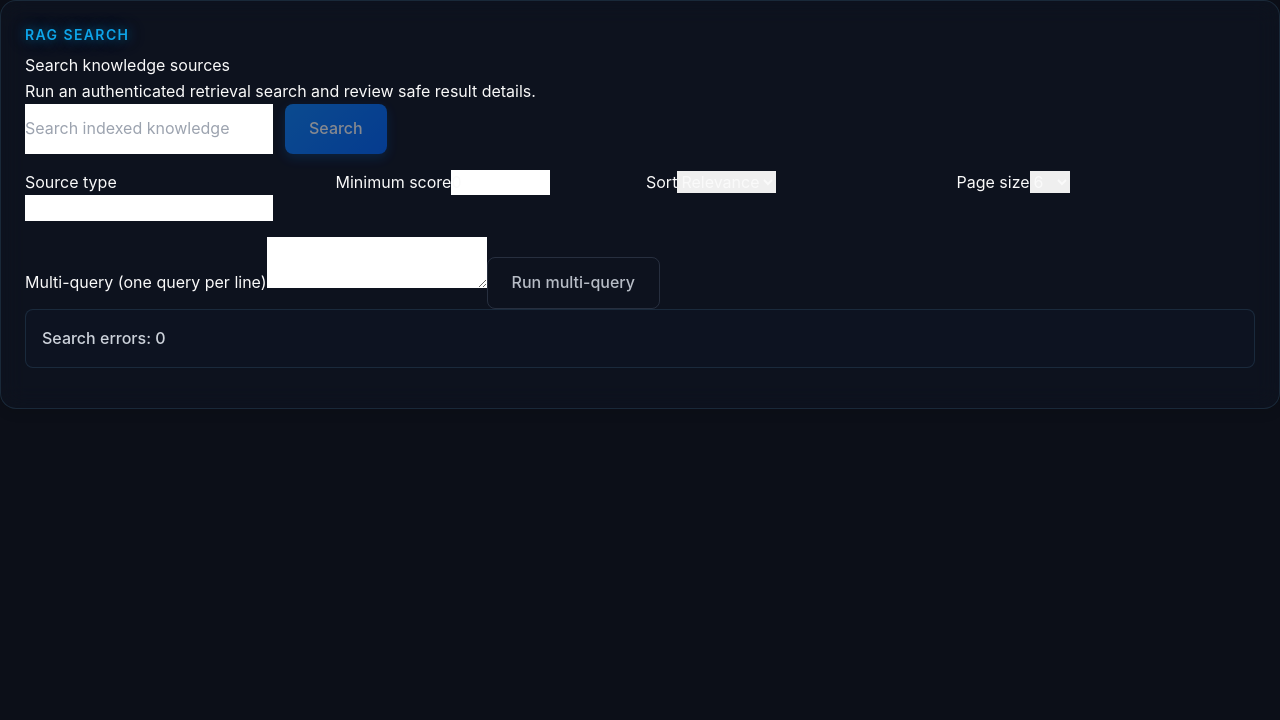
it: admin RAG search › shows authenticated search progress and matches
The image size is (1280, 720).
Type "port congestion" into the field named "Search query". click: {"x": 149, "y": 129}
box: [25,104,273,154]
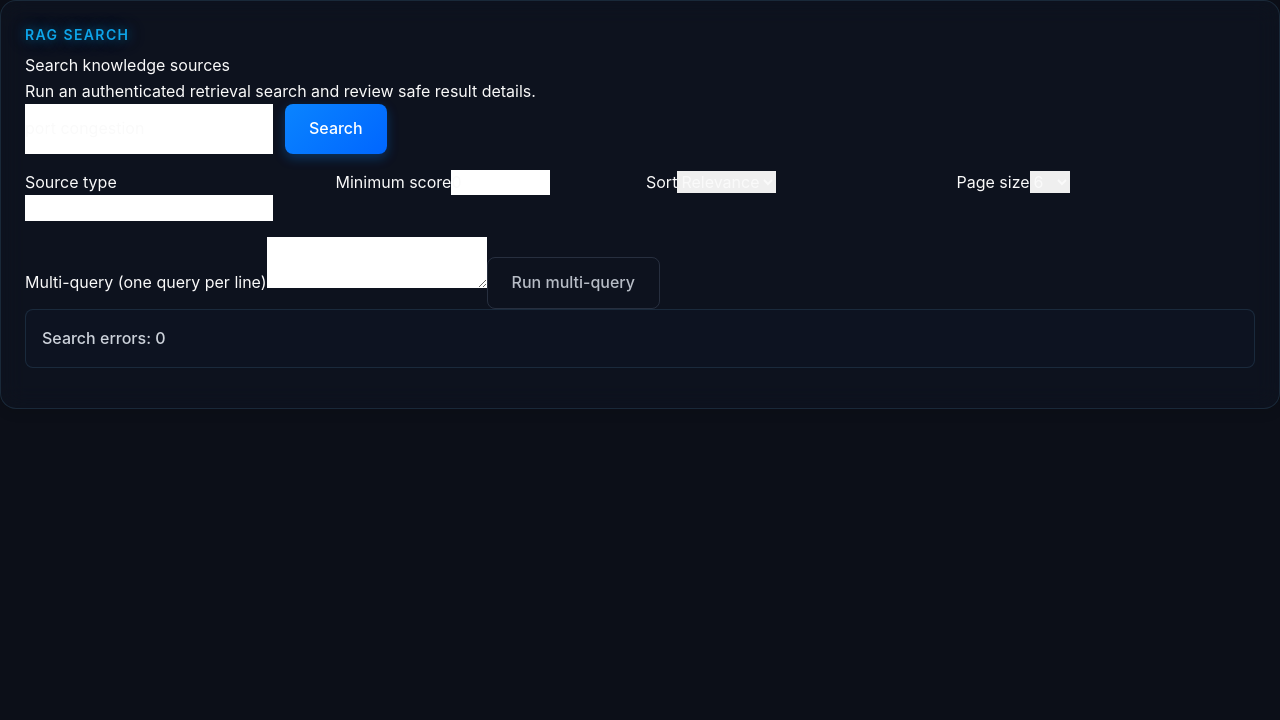
Click the button "Search". click: {"x": 336, "y": 129}
box: [285,104,387,154]
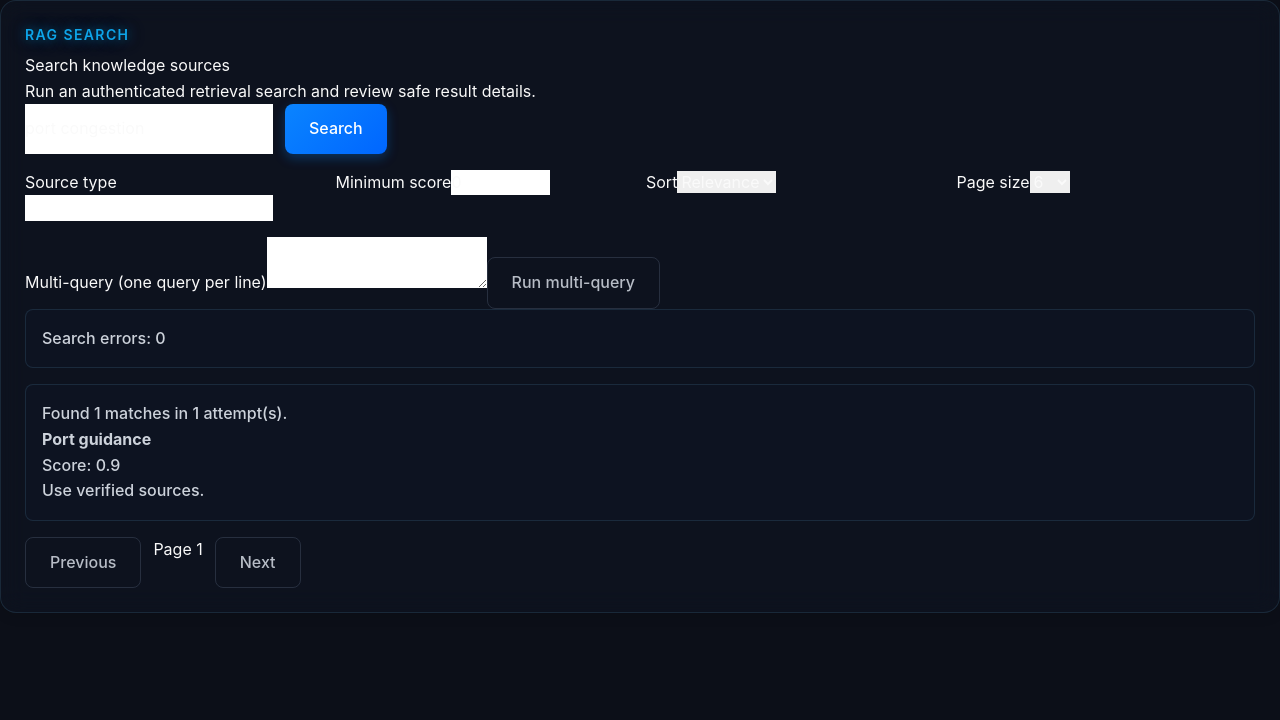
Check: the text "Port guidance" is shown, box [42,429,151,449]
